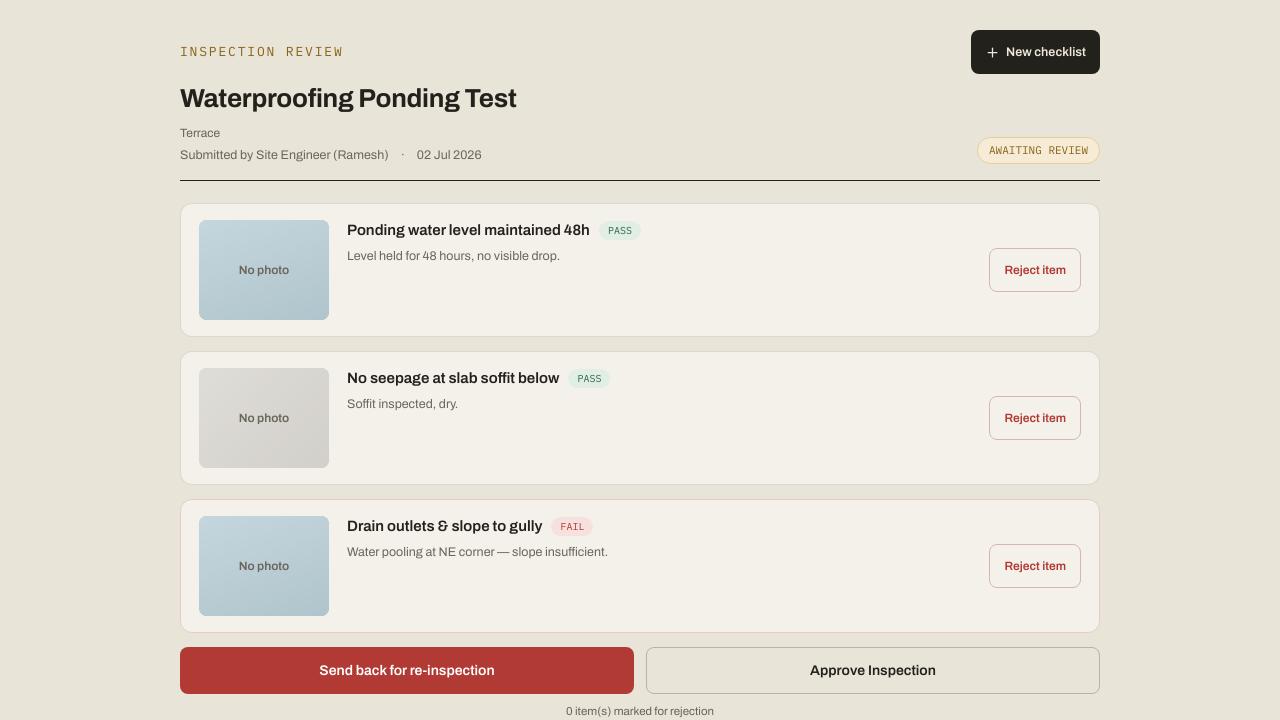
Test: Inspection Review — a review with a FAILED item (#482 QA item 2) › Approve asks first; Cancel leaves the review undecided
The image size is (1280, 720).
Click the button with test id "approve-inspection": (873, 671) [646,648,1100,695]
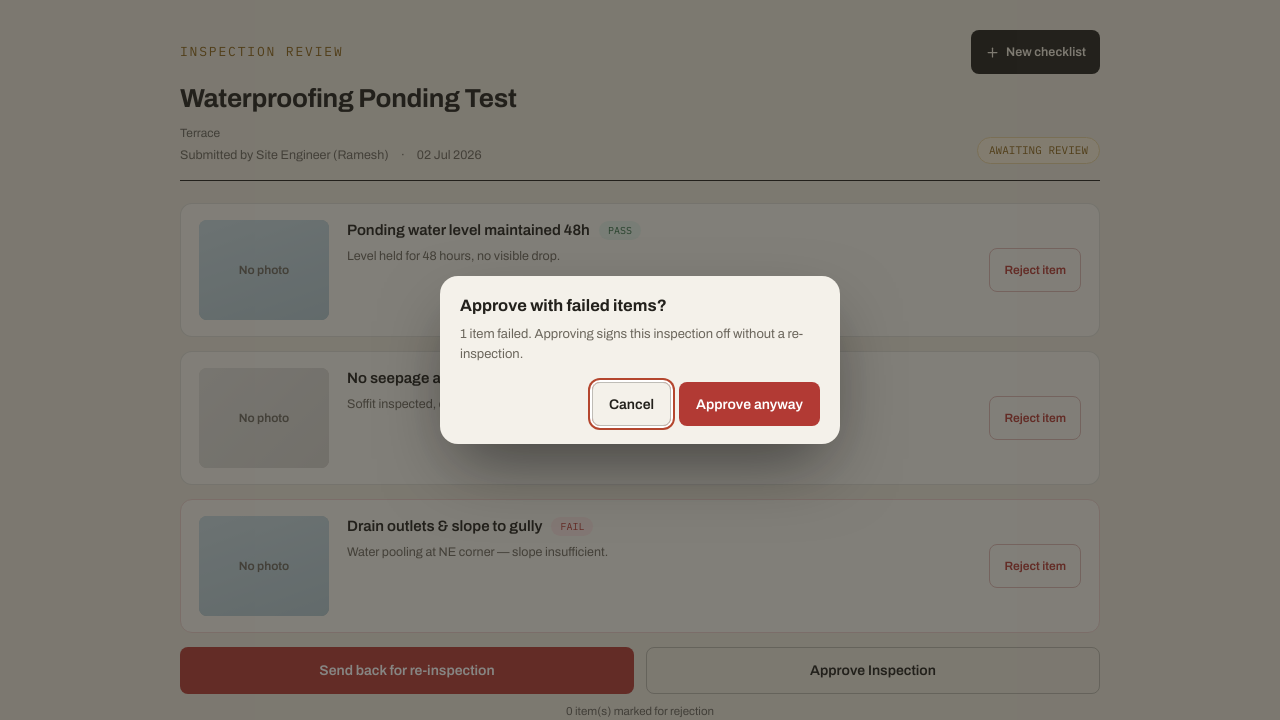
Result: the element with test id "confirm-approve" shows "Approve with failed items?" at [460,297,667,314]
Result: the element with test id "confirm-approve" shows "1 item failed" at [460,327,803,360]
Click the button with test id "confirm-approve-cancel": (631, 404) [592,382,671,426]
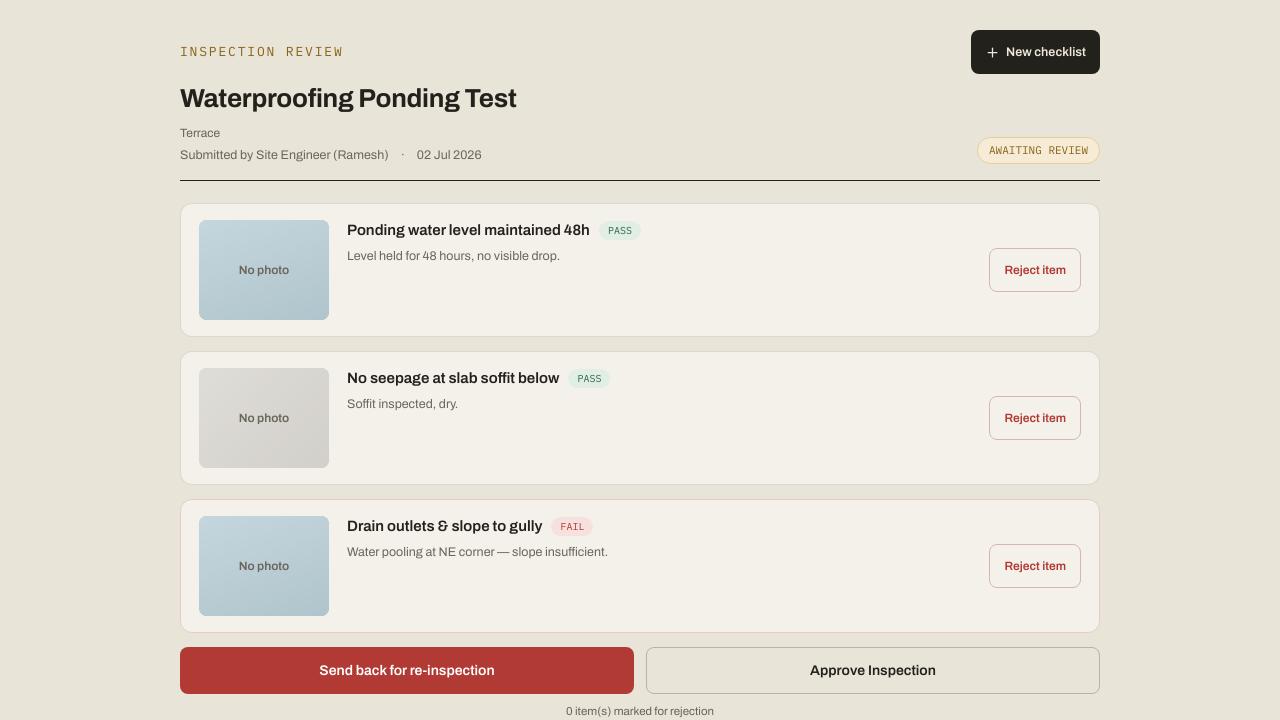
Result: the element with test id "confirm-approve" is gone
